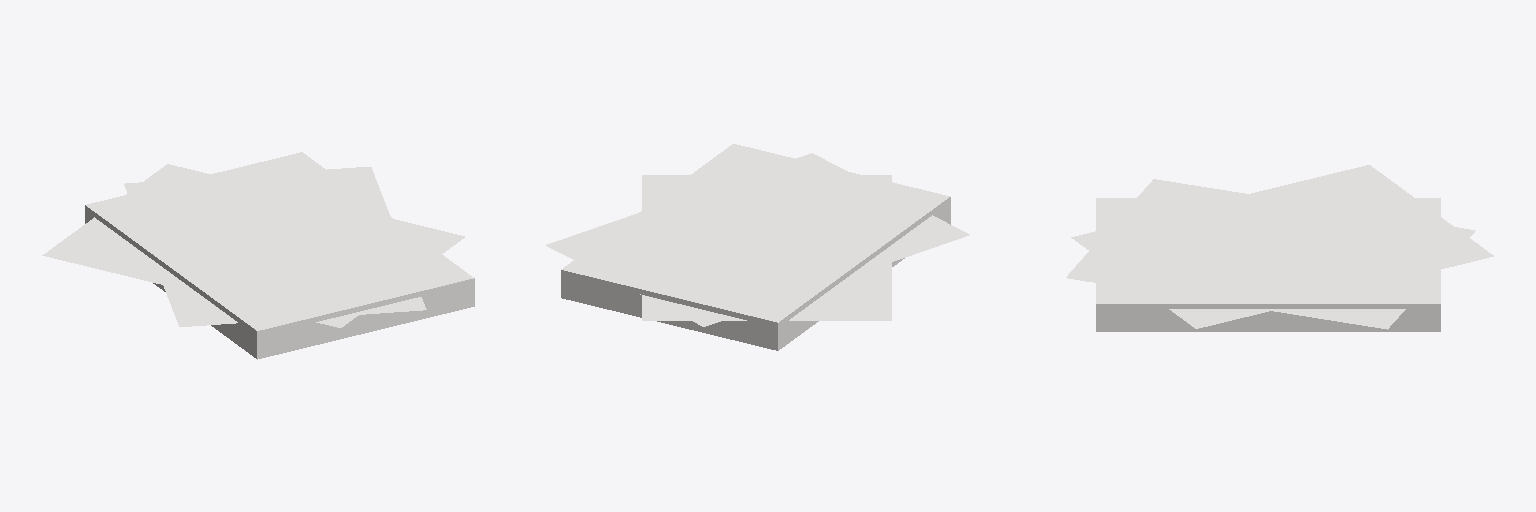
Rendered from StackofPapers.obj.
3 renders of one model, left to right at view 1: azimuth 30°, elevation 25°; view 2: azimuth 150°, elevation 25°; view 3: azimuth 270°, elevation 25°, orthographic.
Visible parts, largest first — view 1: Mesh1 Model; view 2: Mesh1 Model; view 3: Mesh1 Model.
Part boxes in pixels (left/top/right/bottom): Mesh1 Model: left=42, top=152, right=474, bottom=359; Mesh1 Model: left=546, top=144, right=969, bottom=350; Mesh1 Model: left=1066, top=165, right=1493, bottom=331.
Size of the model in its own units: 12.45 by 1 by 13.71.